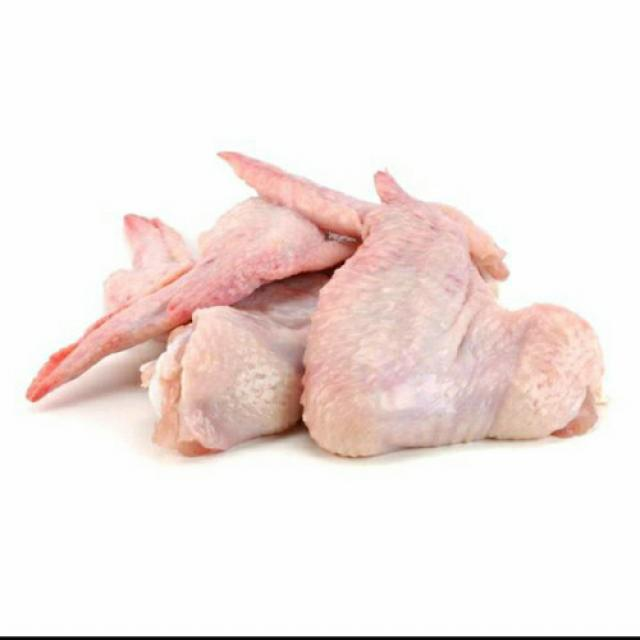chicken: (28, 145, 604, 462), (213, 149, 602, 455)
